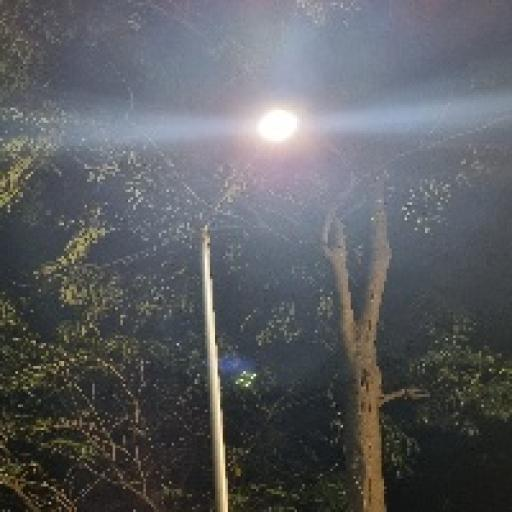Working: (238, 93, 312, 160)
